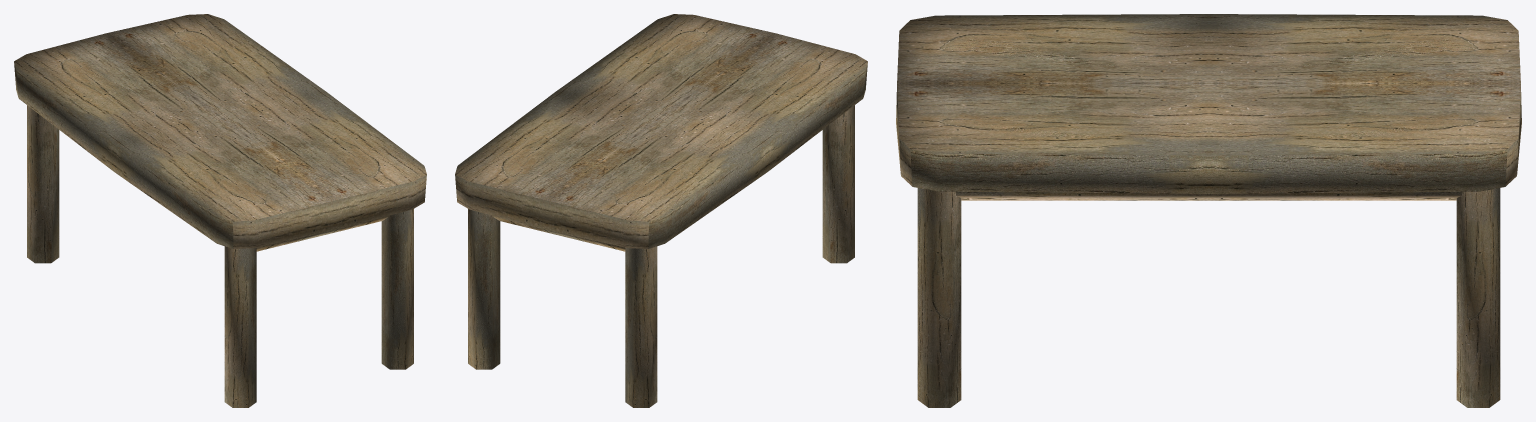
File: Table01.gltf
3 views of the same model, side by side, from view 1: azimuth 30°, elevation 25°; view 2: azimuth 150°, elevation 25°; view 3: azimuth 270°, elevation 25° (orthographic). The views are drawn at different scales.
Visible parts, largest first — view 1: Cube, Circle, Cube.001; view 2: Cube, Circle, Cube.001; view 3: Cube, Circle, Cube.001.
Boxes of the visible parts, left/top/right/bottom form: Cube: left=14, top=14, right=426, bottom=248; Circle: left=27, top=105, right=413, bottom=407; Cube.001: left=256, top=216, right=389, bottom=251; Cube: left=455, top=14, right=867, bottom=248; Circle: left=468, top=105, right=854, bottom=407; Cube.001: left=492, top=216, right=625, bottom=251; Cube: left=896, top=14, right=1521, bottom=193; Circle: left=917, top=188, right=1500, bottom=407; Cube.001: left=956, top=191, right=1461, bottom=200.
Bounding box in the file's own units: 1.15 × 1.01 × 2.15.
Materials: 1 (1 with a texture image).
